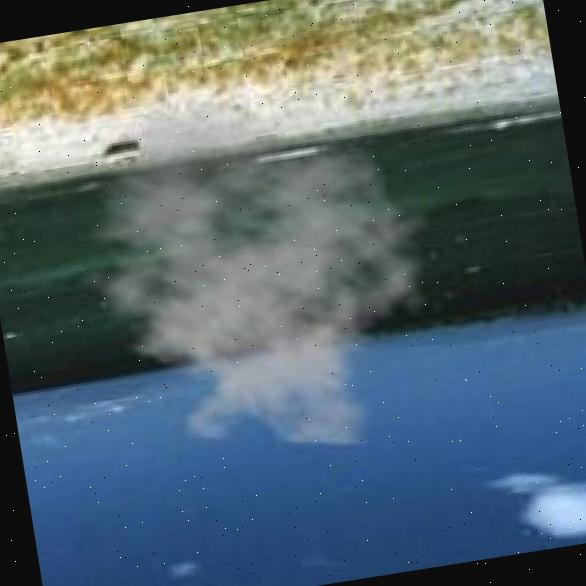smoke: (33, 60, 469, 491)
